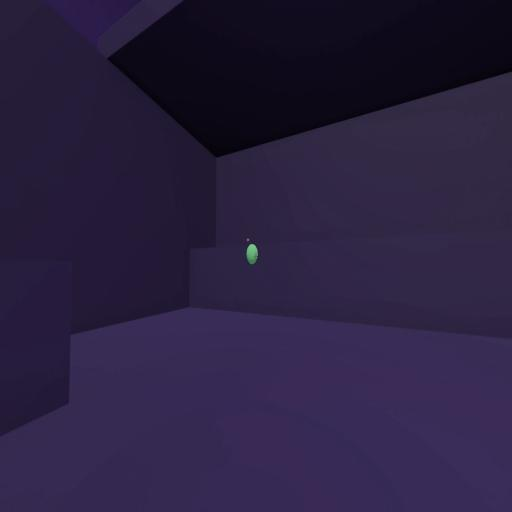Crosshair: (254, 252, 258, 260)
Target: (246, 243, 258, 266)
